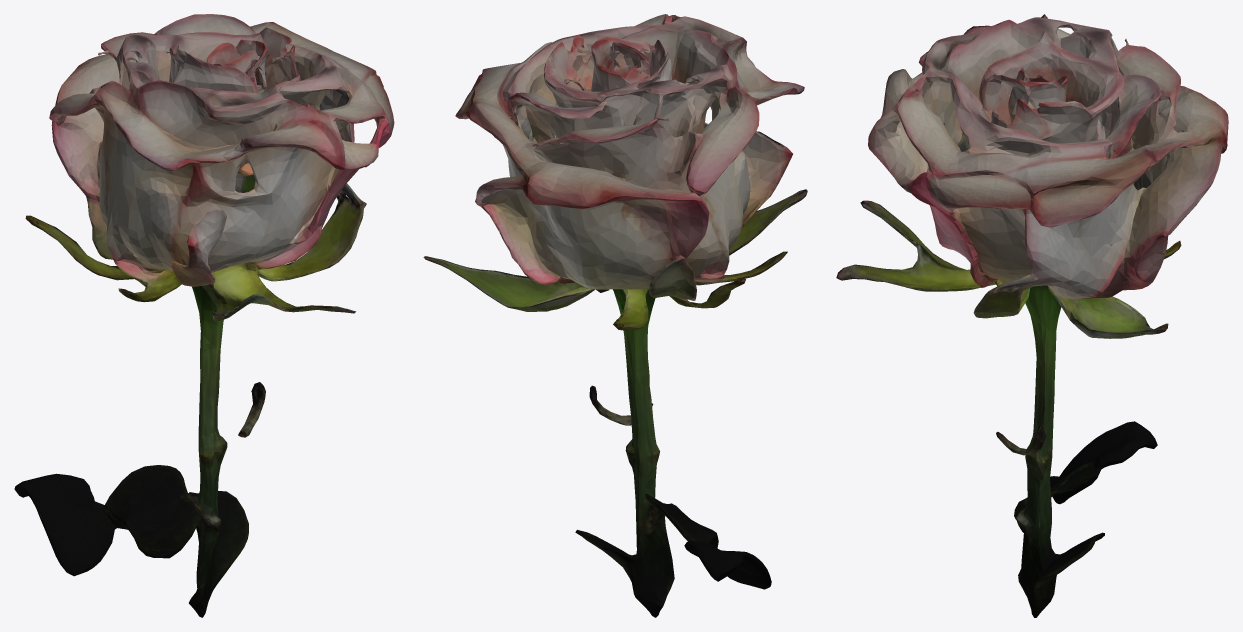
The picture shows the model from 3 angles, left to right: view 1: azimuth 30°, elevation 25°; view 2: azimuth 150°, elevation 25°; view 3: azimuth 270°, elevation 25°; orthographic projection.
Visible parts, largest first — view 1: world; view 2: world; view 3: world.
Part boxes in pixels (x1=…): world: x1=14, y1=14, x2=394, y2=617; world: x1=423, y1=14, x2=807, y2=617; world: x1=836, y1=14, x2=1228, y2=617.
Size of the model in its own units: 0.5791 by 0.9935 by 0.61.
Materials: 1 (1 with a texture image).
